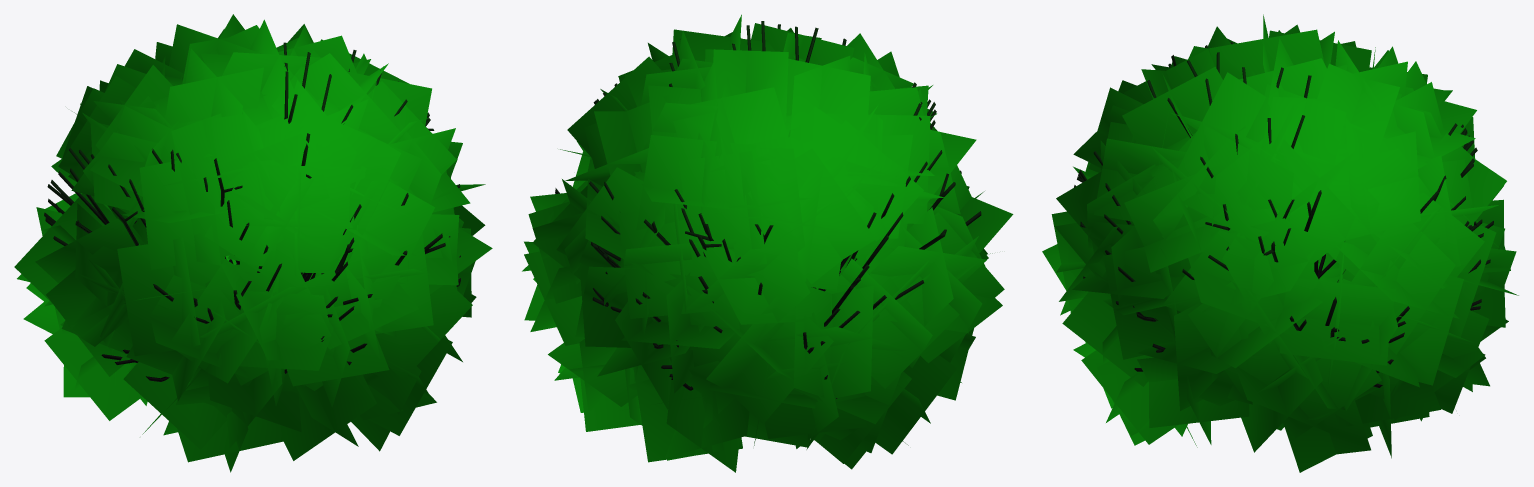
File: IL3DN_Shrub_Round_01_OneMesh.FBX
3 renders of one model, left to right at view 1: azimuth 30°, elevation 25°; view 2: azimuth 150°, elevation 25°; view 3: azimuth 270°, elevation 25°, orthographic. The views are drawn at different scales.
Parts seen in each view (by area): view 1: IL3DN_Shrub_Round_01_LOD0; view 2: IL3DN_Shrub_Round_01_LOD0; view 3: IL3DN_Shrub_Round_01_LOD0.
Boxes of the visible parts, bbox=[...] form: IL3DN_Shrub_Round_01_LOD0: bbox=[14, 14, 492, 472]; IL3DN_Shrub_Round_01_LOD0: bbox=[522, 14, 1013, 472]; IL3DN_Shrub_Round_01_LOD0: bbox=[1042, 14, 1518, 472].
Size of what is drawn, in the model's own units: 66.99 by 57.81 by 65.41.
